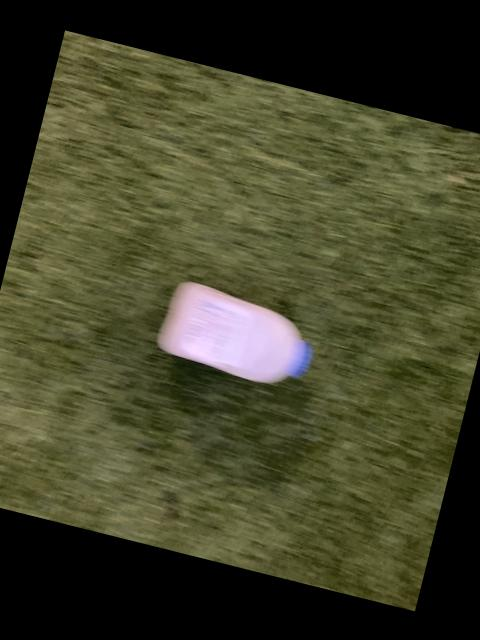plastic: (160, 280, 314, 380)
